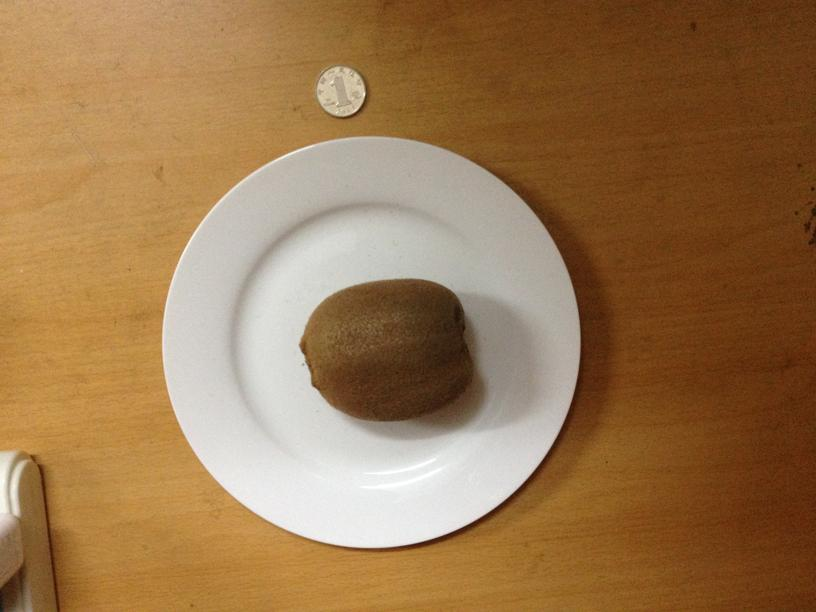coin: (316, 65, 368, 119)
qiwi: (294, 282, 478, 416)
